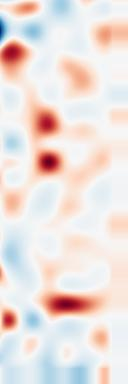filament: (28, 97, 72, 179)
